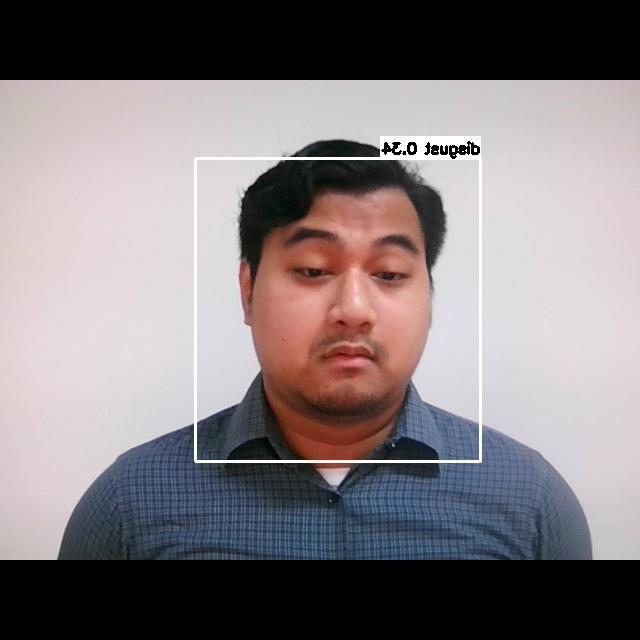Fear: (241, 205, 439, 388)
